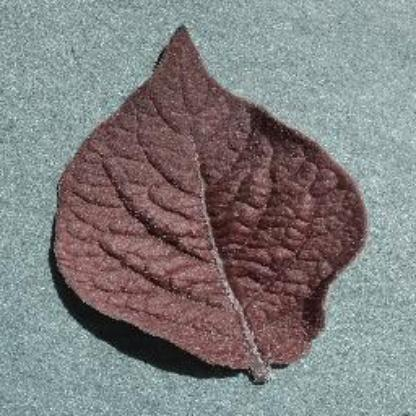Healthy-plant: (6, 25, 416, 393)
